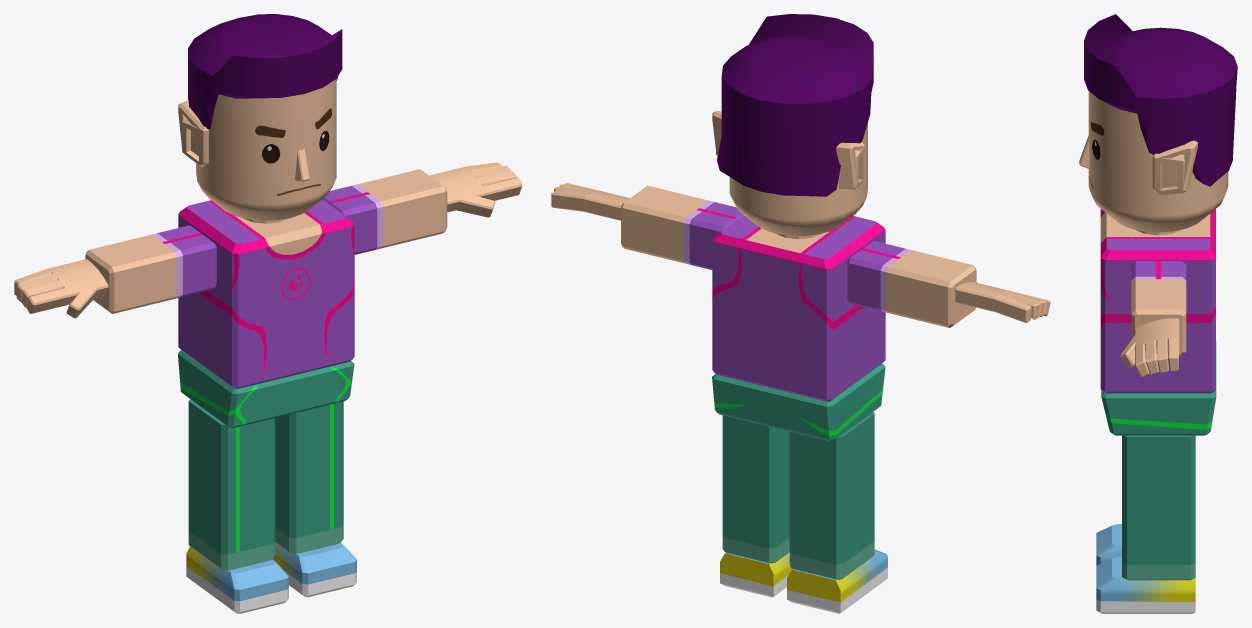
The model's file is sample_character.glb.
3 renders of one model, left to right at view 1: azimuth 30°, elevation 25°; view 2: azimuth 150°, elevation 25°; view 3: azimuth 270°, elevation 25°, orthographic.
Visible parts, largest first — view 1: tshirt_1, leg_1, head_1, hair_1, shoes_1, hand, ear_1; view 2: tshirt_1, leg_1, hair_1, shoes_1, head_1, hand, ear_2; view 3: tshirt_1, hair_1, leg_1, head_1, shoes_1, hand, ear_1, ear_2.
Part boxes in pixels (x1,y1,x2,y2): tshirt_1: [85, 169, 447, 388]; leg_1: [178, 350, 354, 570]; head_1: [196, 79, 336, 223]; hair_1: [188, 14, 342, 128]; shoes_1: [186, 542, 356, 613]; hand: [14, 162, 522, 318]; ear_1: [182, 117, 208, 166]; tshirt_1: [621, 185, 976, 401]; leg_1: [712, 363, 885, 579]; hair_1: [717, 14, 873, 196]; shoes_1: [720, 549, 887, 613]; head_1: [729, 123, 867, 239]; hand: [551, 183, 1050, 323]; ear_2: [712, 110, 863, 184]; tshirt_1: [1100, 209, 1215, 393]; hair_1: [1084, 14, 1237, 186]; leg_1: [1101, 341, 1216, 580]; head_1: [1088, 91, 1228, 235]; shoes_1: [1096, 524, 1195, 613]; hand: [1120, 318, 1179, 377]; ear_1: [1152, 153, 1190, 195]; ear_2: [1157, 140, 1197, 187].
Size of the model in its own units: 0.0344 by 0.0371 by 0.00976.
Materials: 2 (2 with a texture image).
